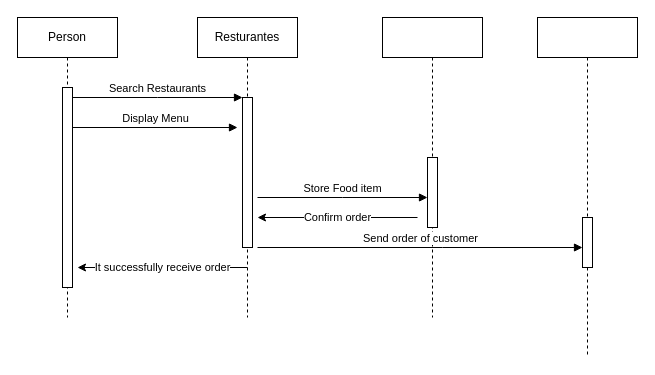
The diagram is 655 pixels wide and 375 high, and some of its shapes have lost their labels. Each missing label, with the centre of its shape:
Database: pixel 432 167
Rider: pixel 587 187
